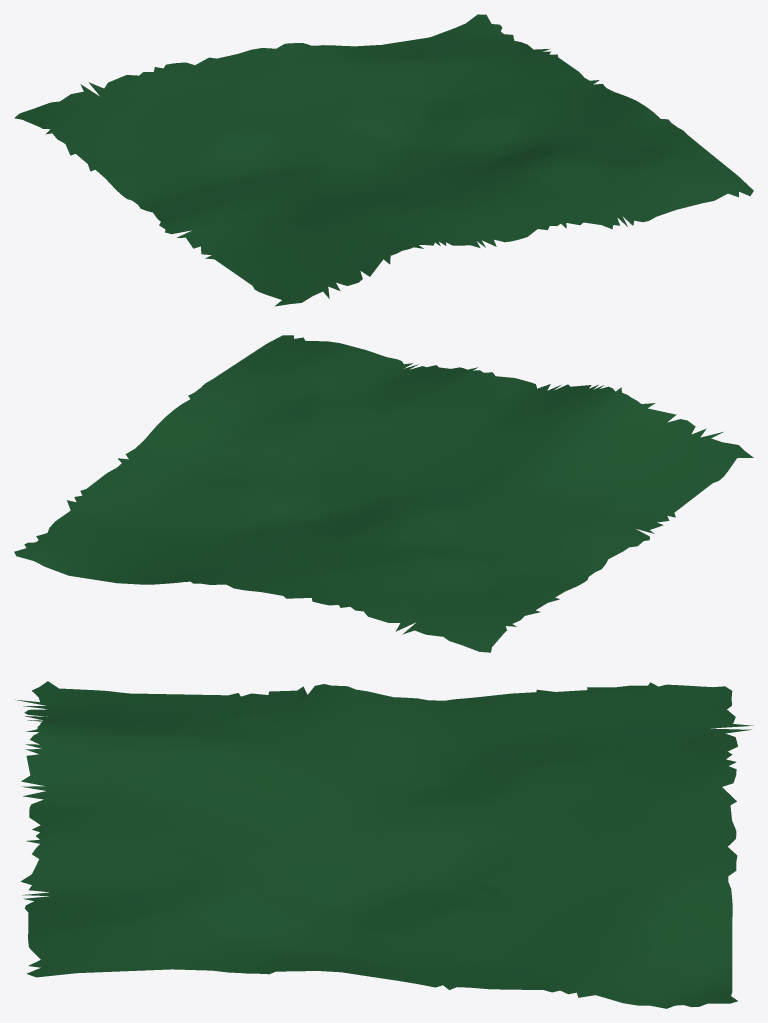
Rendered from payo_land_x3_ym3_lod2.glb.
The picture shows the model from 3 angles, top to bottom: view 1: azimuth 30°, elevation 25°; view 2: azimuth 150°, elevation 25°; view 3: azimuth 270°, elevation 25°; orthographic projection. The views are drawn at different scales.
Parts seen in each view (by area): view 1: payo_land_x3_ym3; view 2: payo_land_x3_ym3; view 3: payo_land_x3_ym3.
Boxes of the visible parts, x1,y1,x2,y2 form: payo_land_x3_ym3: (14, 14, 753, 306); payo_land_x3_ym3: (14, 335, 753, 652); payo_land_x3_ym3: (15, 681, 753, 1008).
Size of the model in its own units: 265 by 29.53 by 271.
